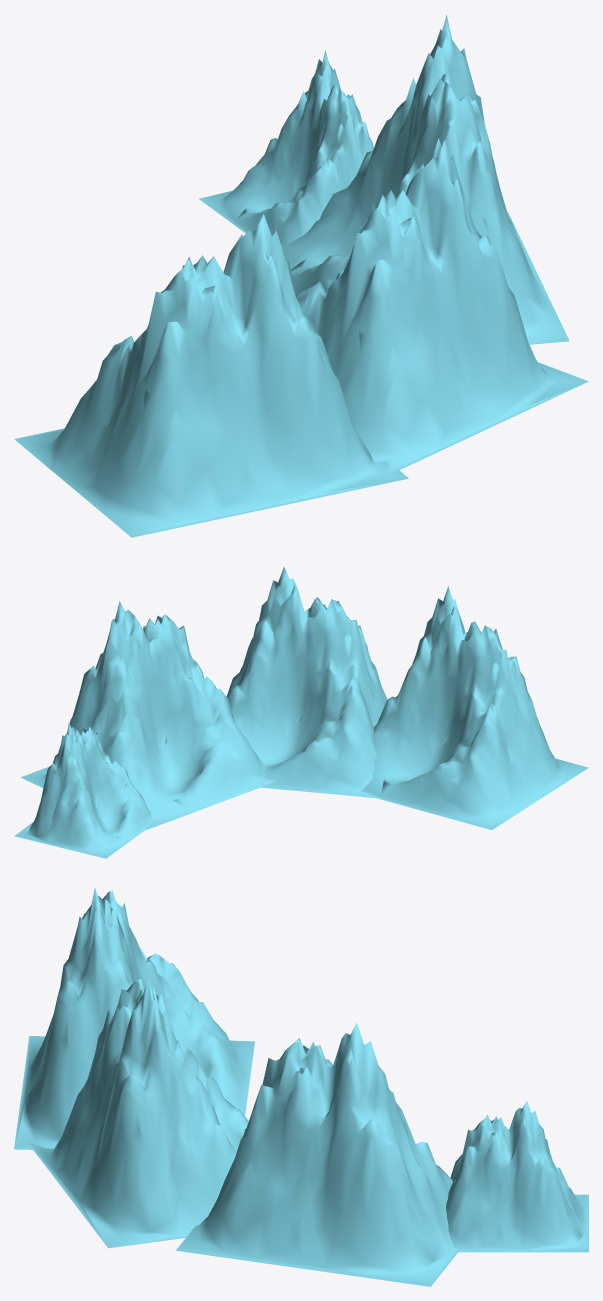
The model's file is moreIceMountain.glb.
3 renders of one model, top to bottom at view 1: azimuth 30°, elevation 25°; view 2: azimuth 150°, elevation 25°; view 3: azimuth 270°, elevation 25°, orthographic. The views are drawn at different scales.
Parts seen in each view (by area): view 1: Landscape.003, Landscape.002, Landscape.001, Landscape; view 2: Landscape.003, Landscape.001, Landscape.002, Landscape; view 3: Landscape.001, Landscape.002, Landscape.003, Landscape.
Boxes of the visible parts, x1,y1,x2,y2 form: Landscape.003: (14, 214, 408, 537); Landscape.002: (296, 140, 588, 474); Landscape.001: (282, 15, 569, 344); Landscape: (199, 50, 373, 247); Landscape.003: (361, 586, 588, 829); Landscape.001: (20, 601, 277, 830); Landscape.002: (226, 566, 387, 798); Landscape: (14, 722, 152, 858); Landscape.001: (176, 1023, 457, 1286); Landscape.002: (29, 977, 248, 1248); Landscape.003: (14, 887, 254, 1149); Landscape: (446, 1101, 588, 1252).
Size of the model in its own units: 477 by 196 by 451.
